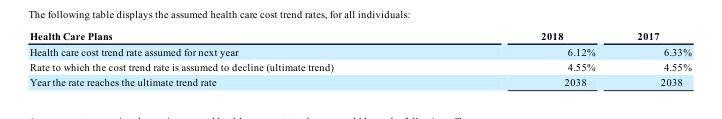table: (29, 29, 690, 87)
table column: (29, 29, 436, 87), (436, 29, 615, 87), (615, 29, 690, 87)
table column header: (29, 29, 690, 43)
table row: (29, 58, 690, 74), (29, 43, 690, 58), (29, 29, 690, 43), (29, 74, 690, 87)
